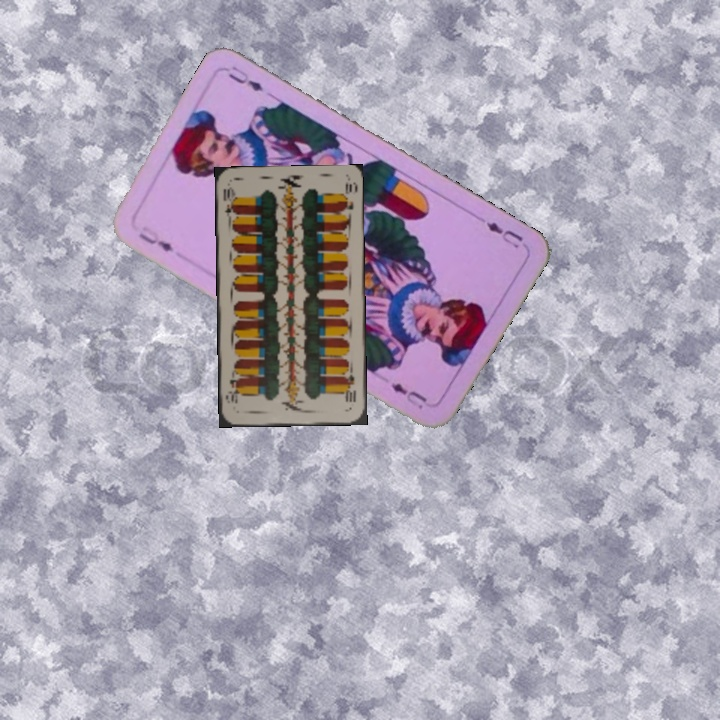E10: (219, 183, 238, 222), (342, 371, 358, 405)
EU: (481, 217, 525, 251), (134, 221, 176, 255)
